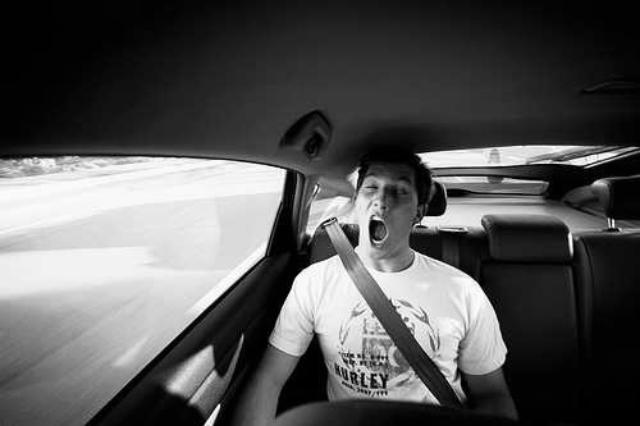Seatbelt: (319, 215, 461, 407)
